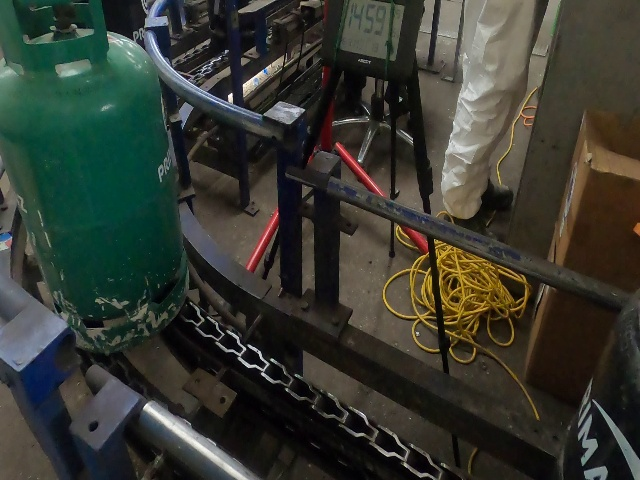gas_bottle: (1, 1, 640, 480)
